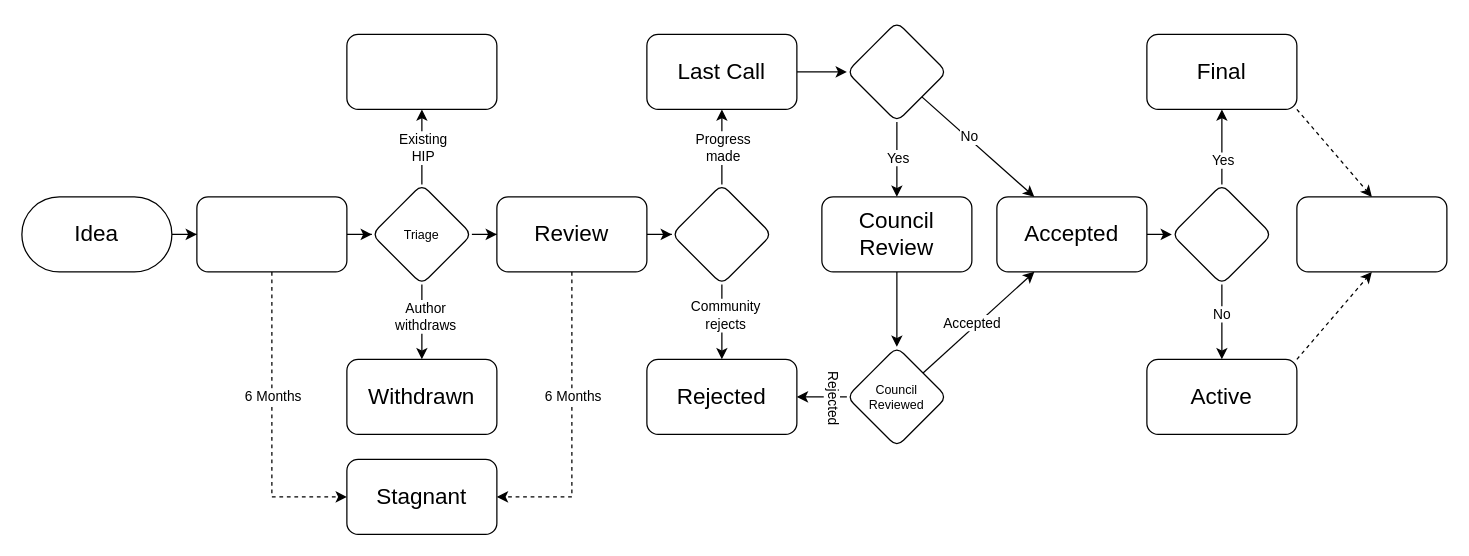
This 1469x556 diagram has some shape labels left out. Here are the shapes that lost their labels. From the top down, the centre of each, then its label:
(x=421, y=71): Deferred
(x=896, y=71): Needs Council Approval?
(x=271, y=234): Draft
(x=721, y=233): Revise
(x=1221, y=233): Standard?
(x=1371, y=234): Replaced
